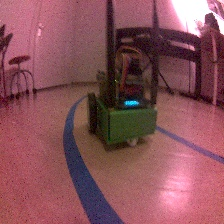rob: (85, 48, 158, 148)
